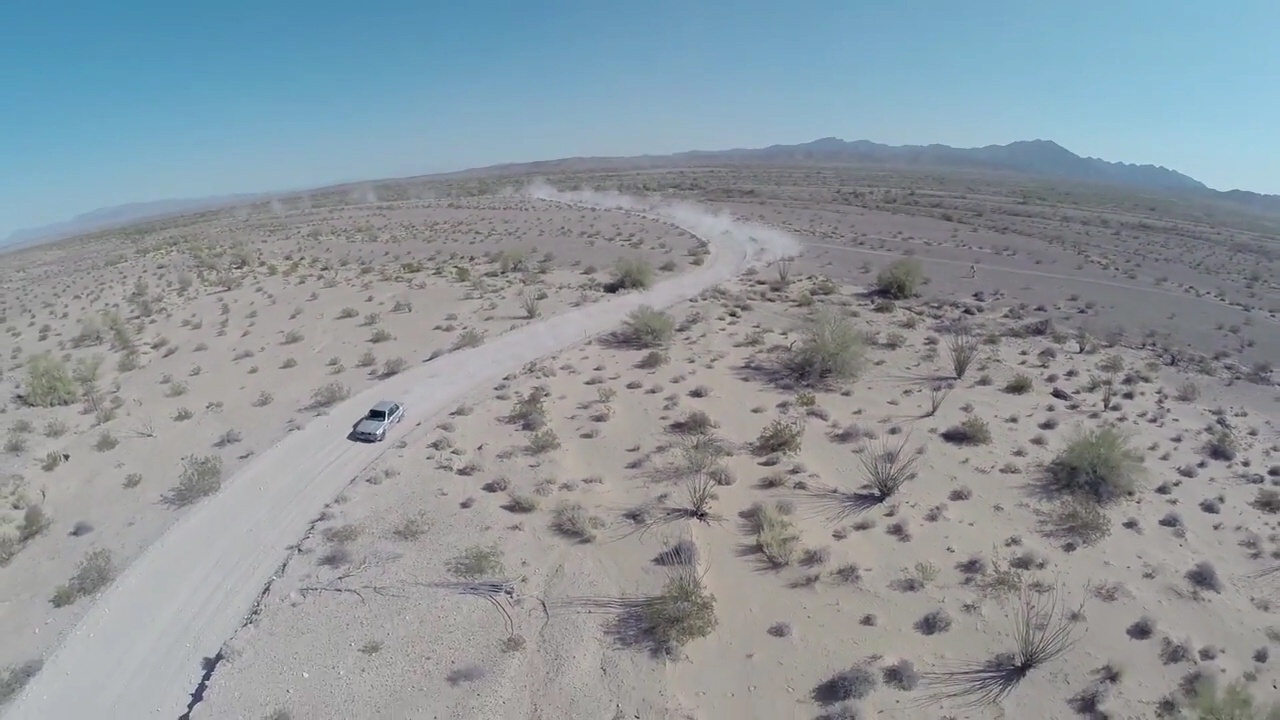araba: (348, 398, 406, 443)
